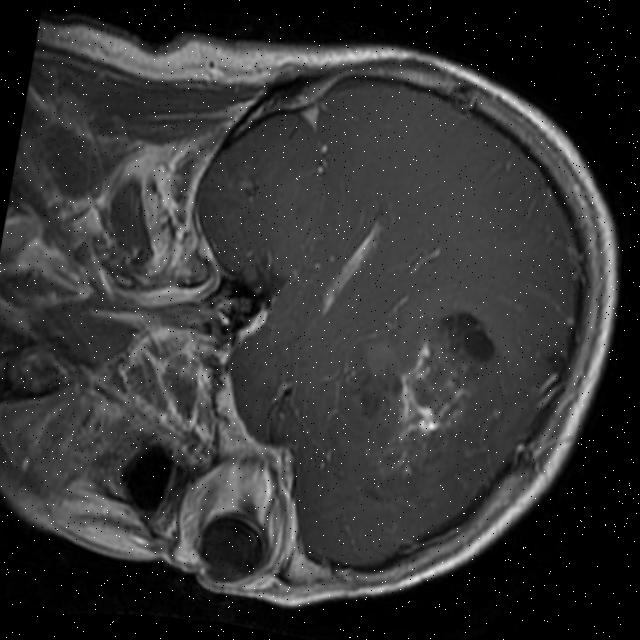Glioma: (378, 333, 480, 488)
